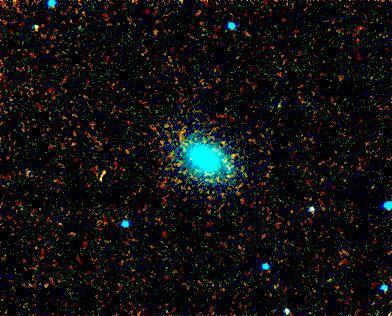star: (217, 141, 247, 171)
